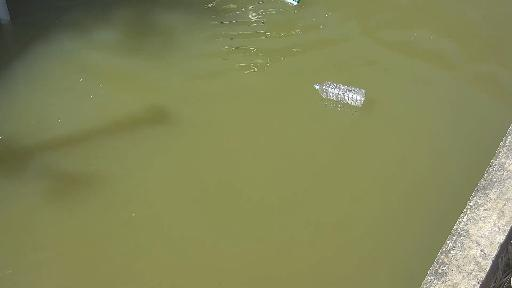plastic: (306, 70, 391, 115), (267, 0, 310, 11)
